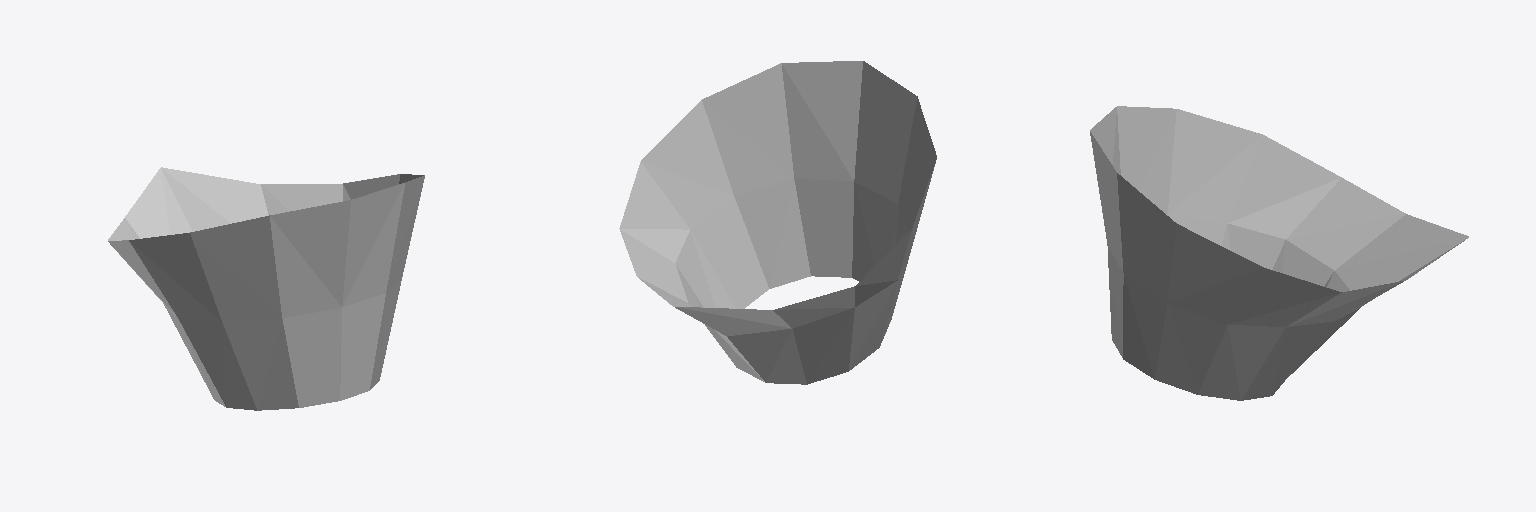
Rendered from cou_2.obj.
The picture shows the model from 3 angles: view 1: azimuth 30°, elevation 25°; view 2: azimuth 150°, elevation 25°; view 3: azimuth 270°, elevation 25°; orthographic projection.
Parts seen in each view (by area): view 1: cou2_Wolf.003; view 2: cou2_Wolf.003; view 3: cou2_Wolf.003.
Boxes of the visible parts, x1,y1,x2,y2 form: cou2_Wolf.003: [108, 167, 424, 410]; cou2_Wolf.003: [619, 61, 936, 384]; cou2_Wolf.003: [1090, 106, 1468, 400].
Bounding box in the file's own units: 21.77 × 19.24 × 26.39.